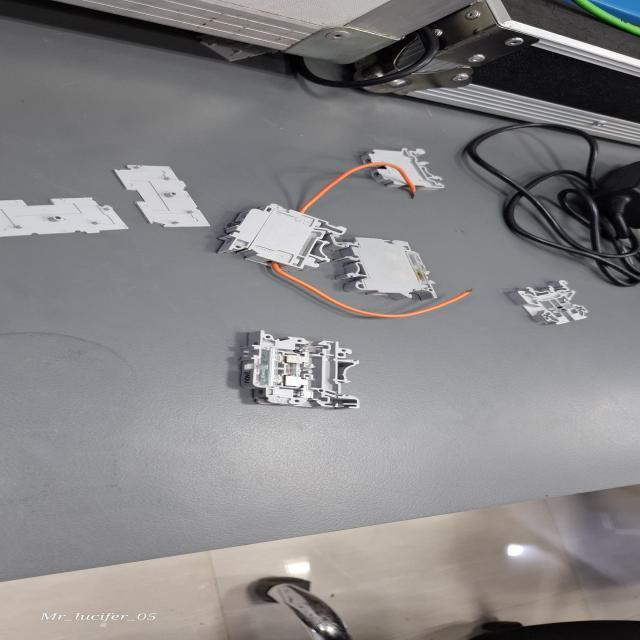Inverted: (329, 134, 470, 208)
Reject: (494, 276, 602, 331)
